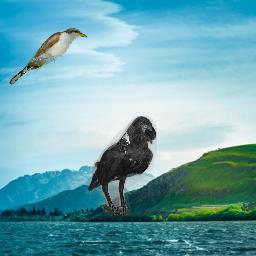Crow: (88, 116, 157, 216)
Cuckoo: (8, 27, 88, 85)
